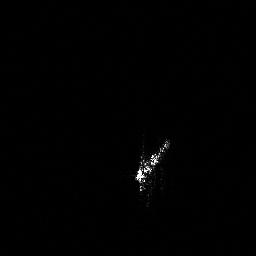ship: (130, 134, 176, 197)
